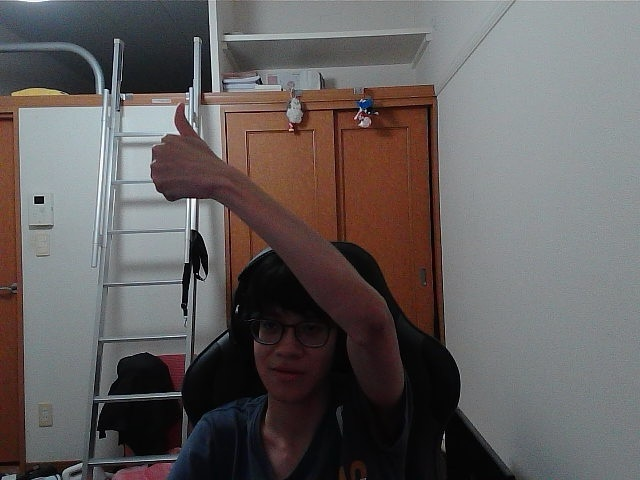thumb_up: (156, 108, 213, 194)
